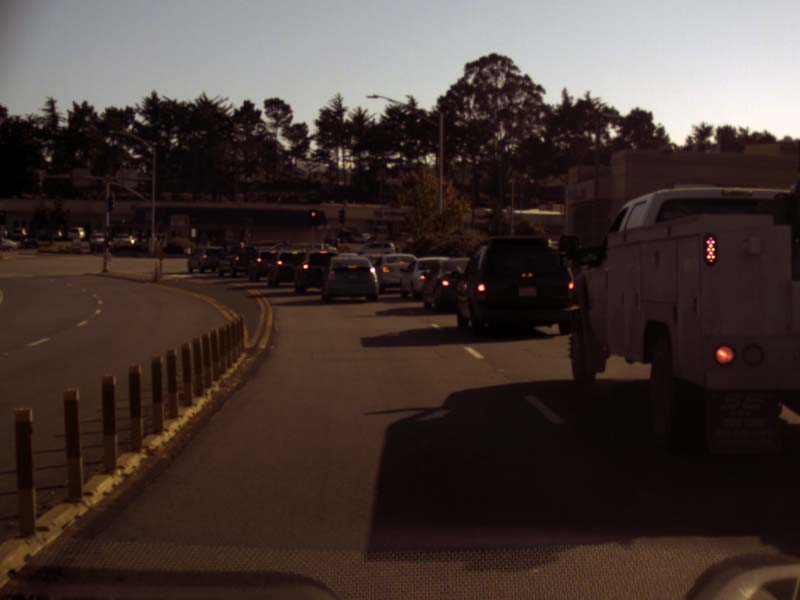Red: (309, 209, 317, 226)
